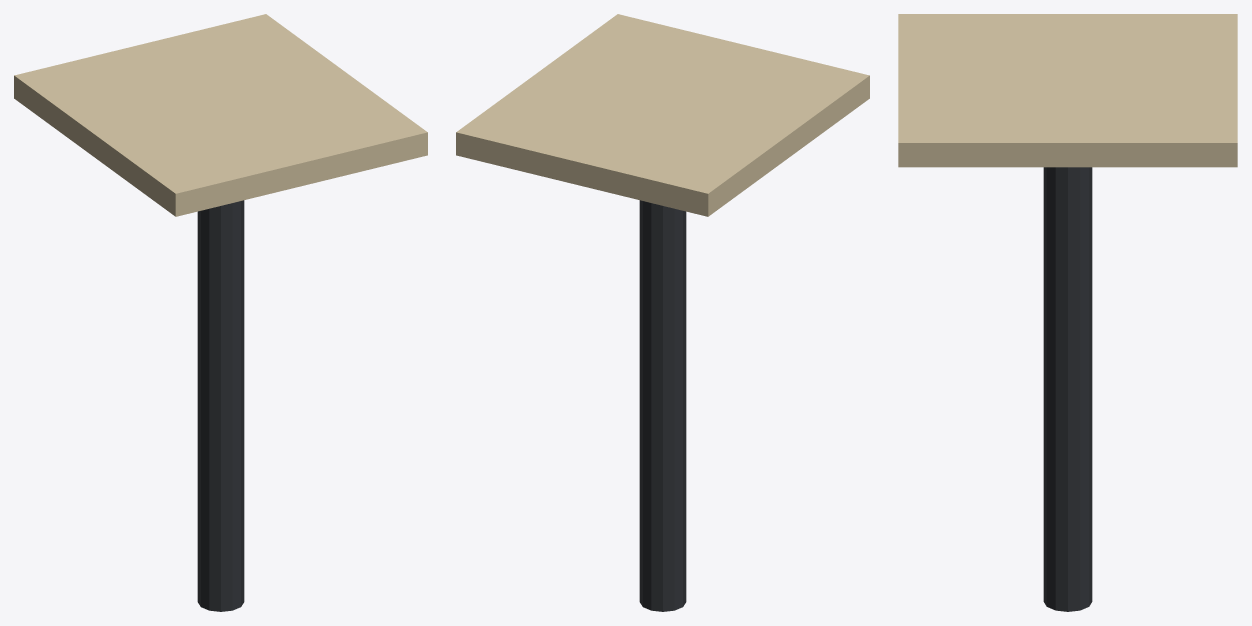
File: chair_dining.glb
The picture shows the model from 3 angles, left to right: view 1: azimuth 30°, elevation 25°; view 2: azimuth 150°, elevation 25°; view 3: azimuth 270°, elevation 25°; orthographic projection. The views are drawn at different scales.
Size of the model in its own units: 0.4572 by 0.8636 by 0.508.
